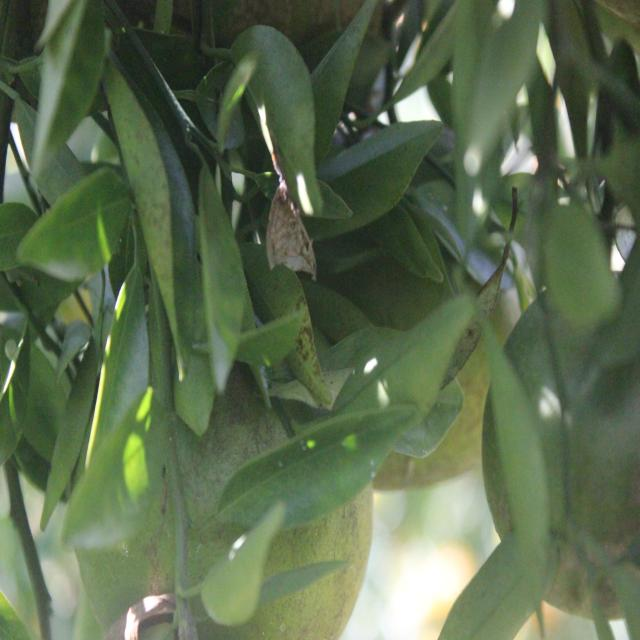melanose: (113, 78, 199, 352), (242, 240, 343, 413)
